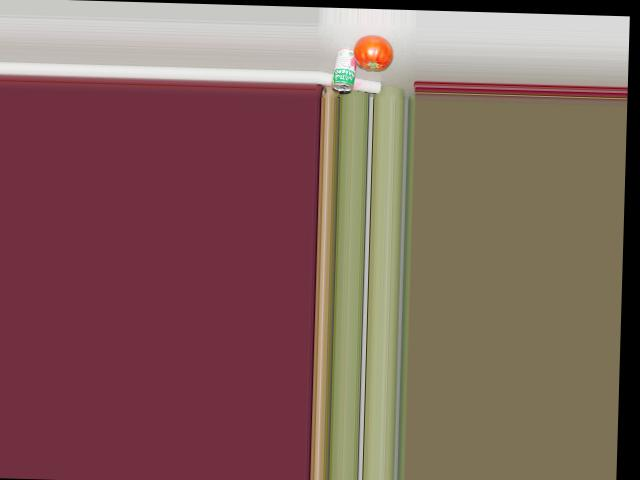tomato: (353, 34, 393, 69)
